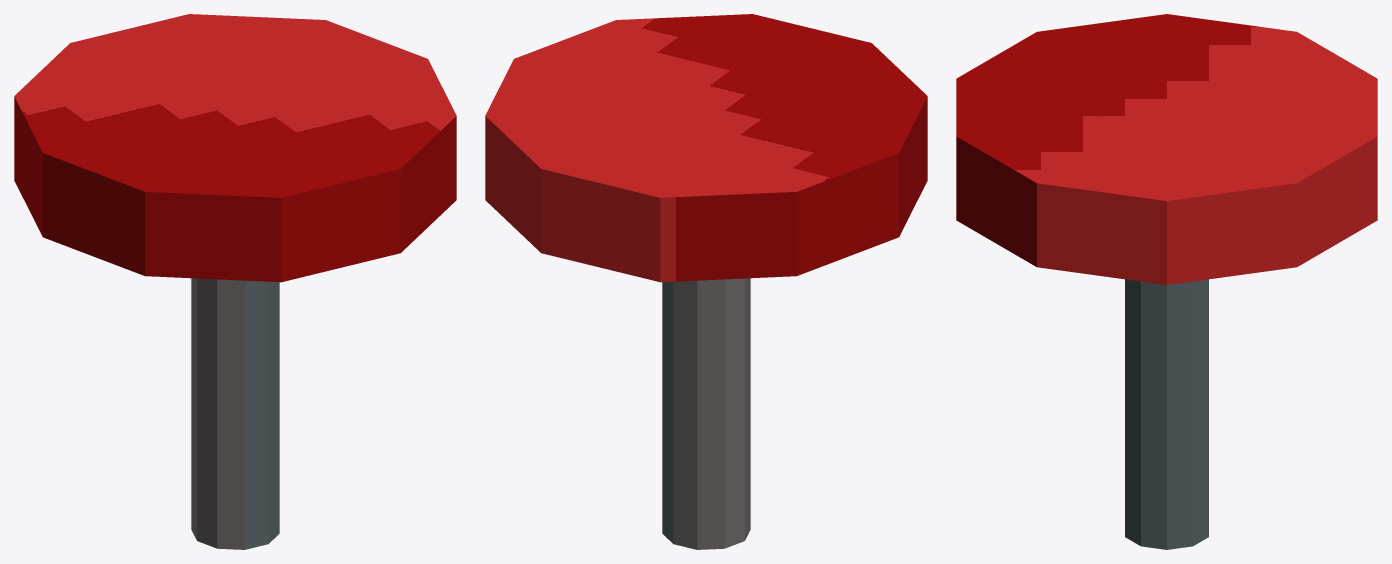
The model's file is CC-Chair.gltf.
3 renders of one model, left to right at view 1: azimuth 30°, elevation 25°; view 2: azimuth 150°, elevation 25°; view 3: azimuth 270°, elevation 25°, orthographic.
Parts seen in each view (by area): view 1: ChairTop, Pole; view 2: ChairTop, Pole; view 3: ChairTop, Pole.
Boxes of the visible parts, x1,y1,x2,y2 form: ChairTop: [14, 14, 456, 282]; Pole: [191, 278, 279, 549]; ChairTop: [485, 14, 927, 282]; Pole: [662, 278, 750, 549]; ChairTop: [956, 14, 1377, 284]; Pole: [1125, 279, 1208, 549].
Bounding box in the file's own units: 0.6572 × 0.6937 × 0.625.
Materials: 1 (1 with a texture image).
